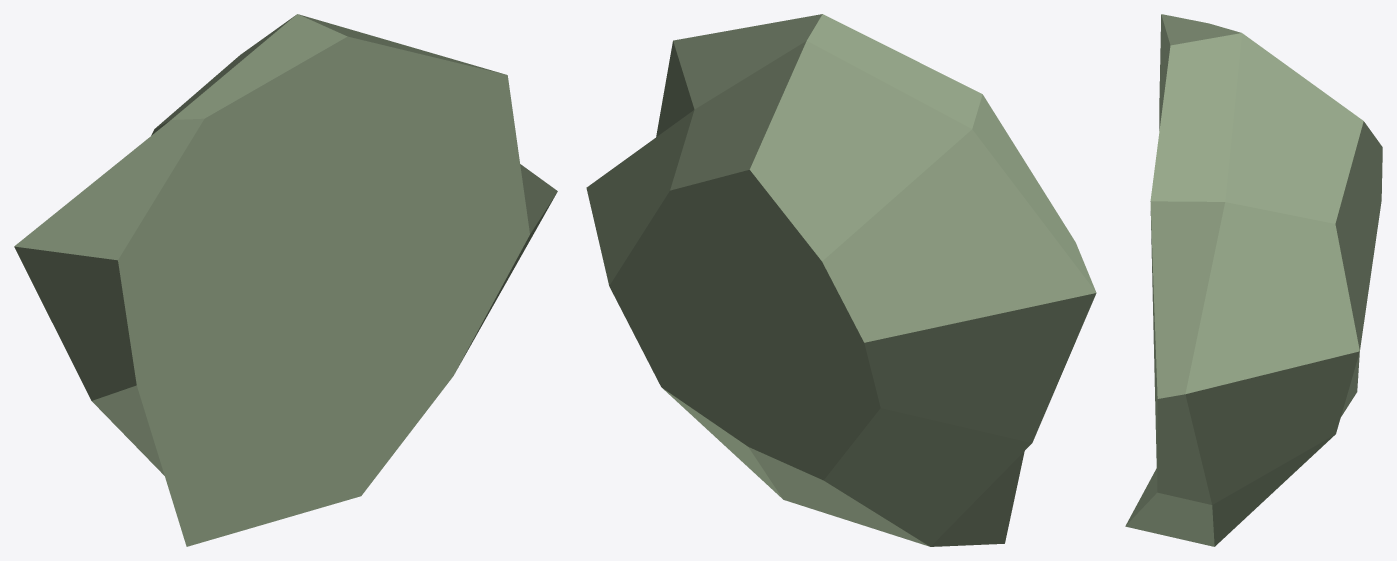
The model's file is LowPolyRock_Prototype.fbx.
The picture shows the model from 3 angles, left to right: view 1: azimuth 30°, elevation 25°; view 2: azimuth 150°, elevation 25°; view 3: azimuth 270°, elevation 25°; orthographic projection. The views are drawn at different scales.
Visible parts, largest first — view 1: LowPolyRock_Prototype; view 2: LowPolyRock_Prototype; view 3: LowPolyRock_Prototype.
Boxes of the visible parts, x1=… form: LowPolyRock_Prototype: x1=14, y1=14, x2=557, y2=546; LowPolyRock_Prototype: x1=586, y1=14, x2=1096, y2=546; LowPolyRock_Prototype: x1=1125, y1=14, x2=1382, y2=546.
Bounding box in the file's own units: 254 × 222 × 101.
